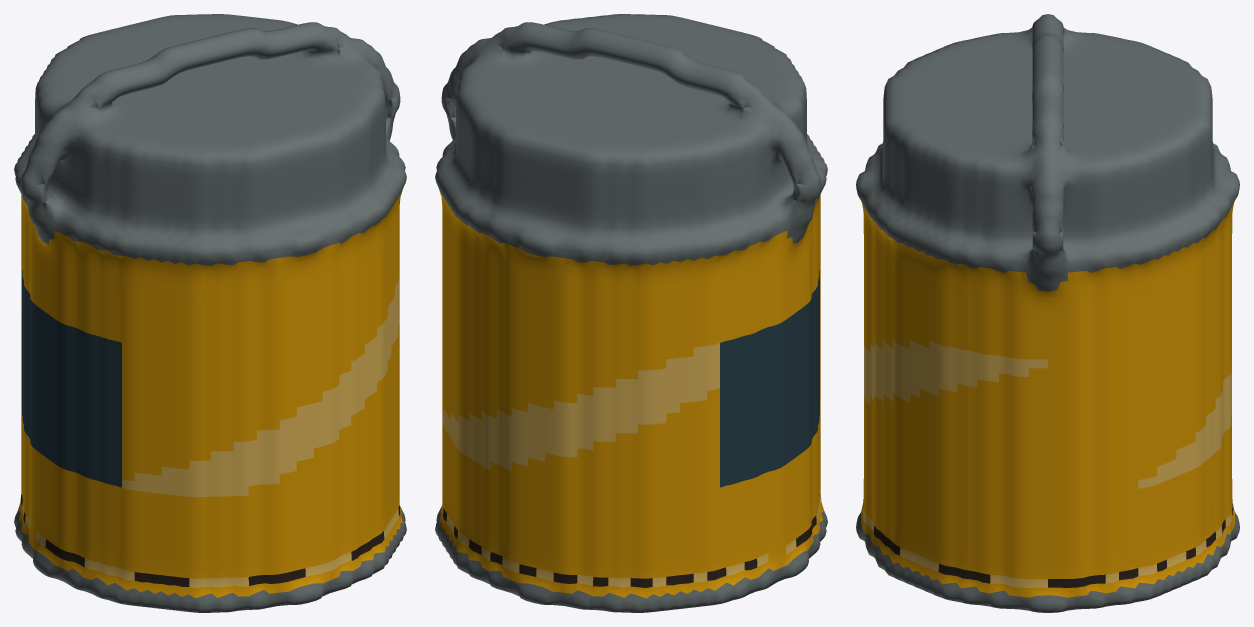
File: paint-can.glb
3 views of the same model, side by side, from view 1: azimuth 30°, elevation 25°; view 2: azimuth 150°, elevation 25°; view 3: azimuth 270°, elevation 25° (orthographic). The views are drawn at different scales.
Parts seen in each view (by area): view 1: __playground; view 2: __playground; view 3: __playground.
Part boxes in pixels (box(x1,y1,x2,y2)): __playground: box(14, 14, 406, 612); __playground: box(435, 14, 827, 612); __playground: box(856, 14, 1239, 612).
Size of the model in its own units: 1.09 by 1.37 by 0.9903.
